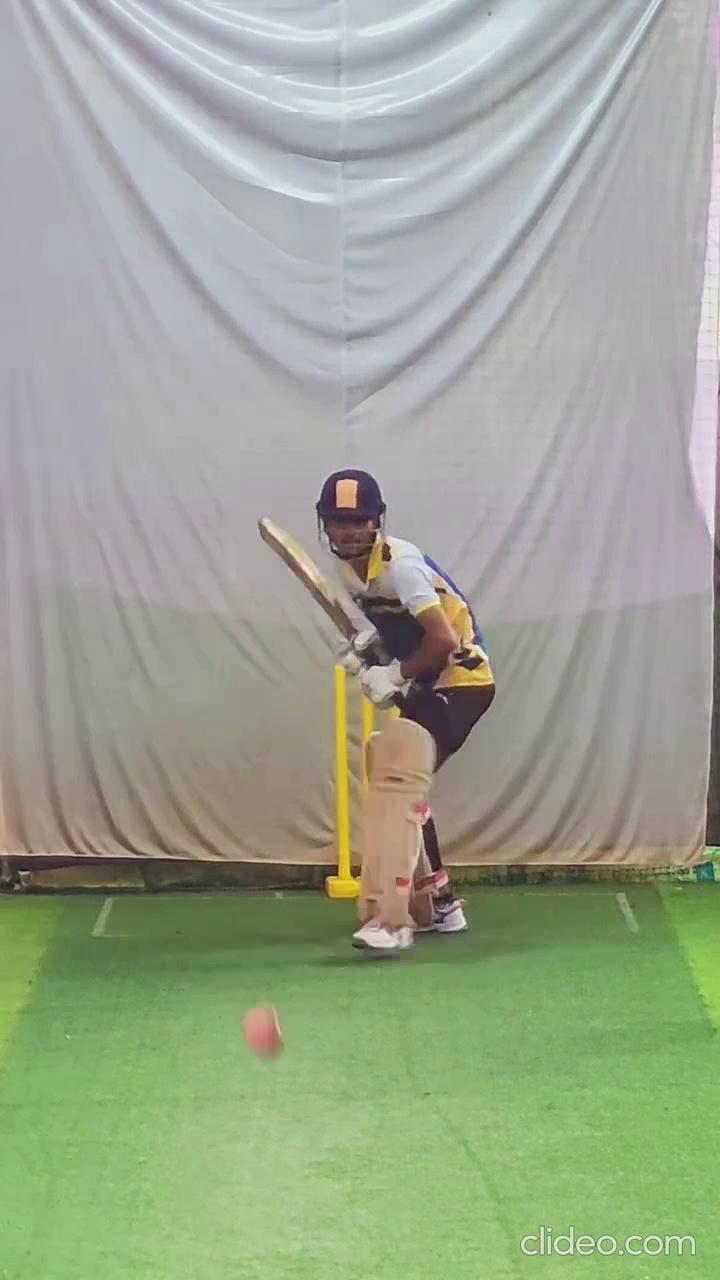bat: (247, 504, 362, 656)
